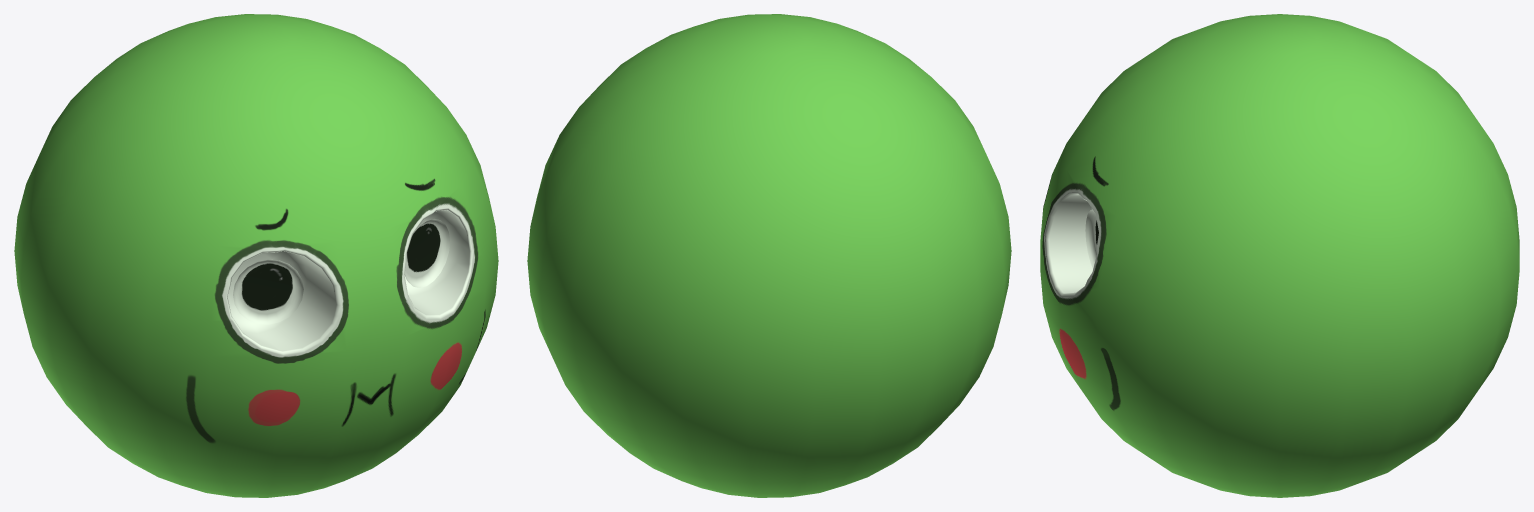
The model's file is sphereguy1.fbx.
3 views of the same model, side by side, from view 1: azimuth 30°, elevation 25°; view 2: azimuth 150°, elevation 25°; view 3: azimuth 270°, elevation 25° (orthographic).
Parts seen in each view (by area): view 1: pSphere9, Reye, Leye; view 2: pSphere9; view 3: pSphere9, Leye.
Part boxes in pixels (x1,y1,x2,y2): pSphere9: [14, 14, 498, 497]; Reye: [233, 259, 303, 324]; Leye: [404, 219, 449, 287]; pSphere9: [527, 14, 1011, 497]; pSphere9: [1040, 14, 1519, 497]; Leye: [1085, 209, 1098, 268].
Bounding box in the file's own units: 150 × 150 × 148.
